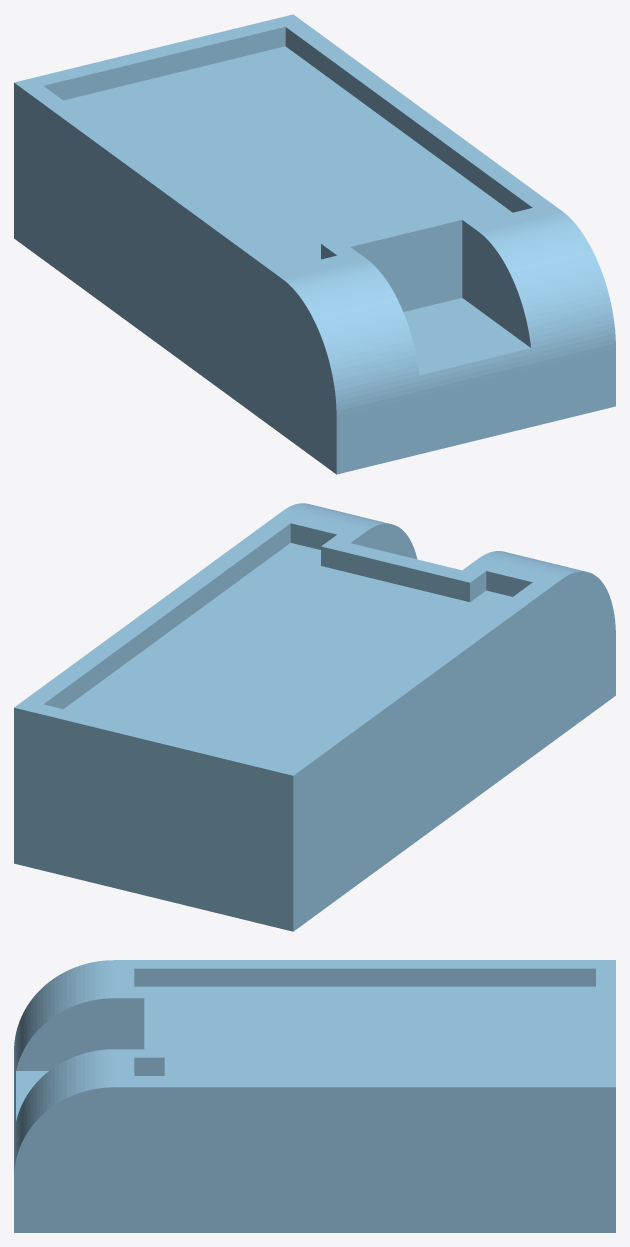
Rendered from chasis.dae.
3 views of the same model, one above another, from view 1: azimuth 30°, elevation 25°; view 2: azimuth 150°, elevation 25°; view 3: azimuth 270°, elevation 25° (orthographic). The views are drawn at different scales.
Visible parts, largest first — view 1: 5e9c61851c51c8160374506a; view 2: 5e9c61851c51c8160374506a; view 3: 5e9c61851c51c8160374506a.
Boxes of the visible parts, x1=… form: 5e9c61851c51c8160374506a: x1=14, y1=14, x2=615, y2=474; 5e9c61851c51c8160374506a: x1=14, y1=503, x2=615, y2=931; 5e9c61851c51c8160374506a: x1=14, y1=960, x2=615, y2=1232.
Bounding box in the file's own units: 0.15 × 0.3 × 0.08.
